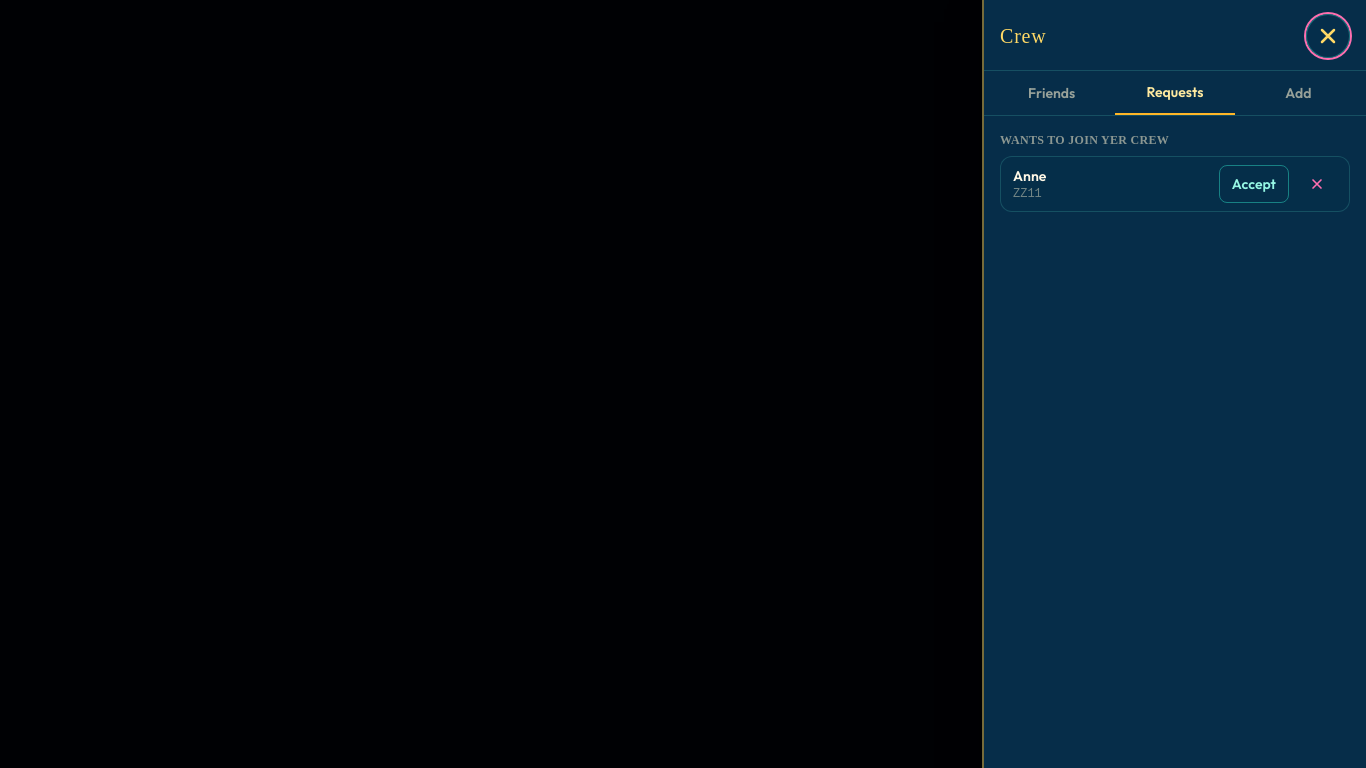
FriendsDrawer › lists incoming requests and accepts one
Click the button "Accept".
click(1254, 184)  # box [1219, 165, 1289, 203]
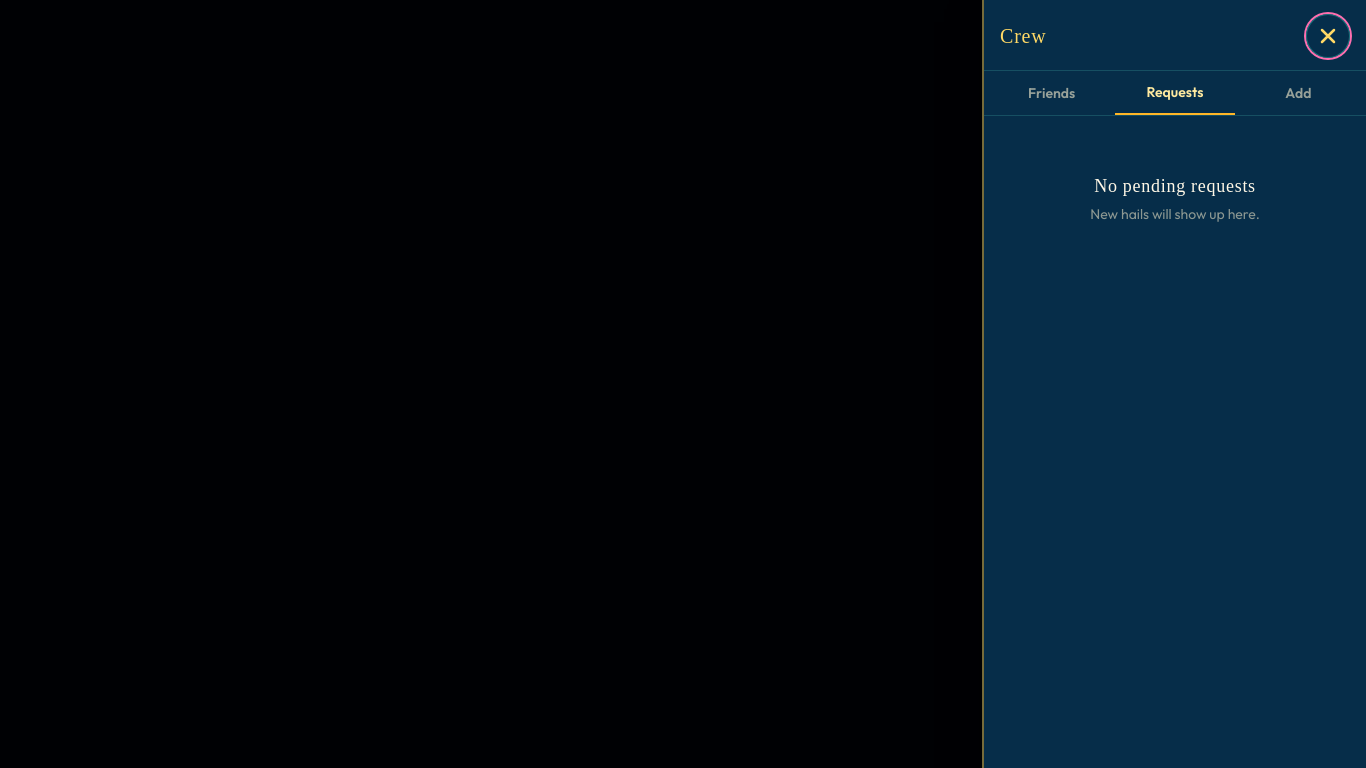
expect the text "Anne" is gone: met
